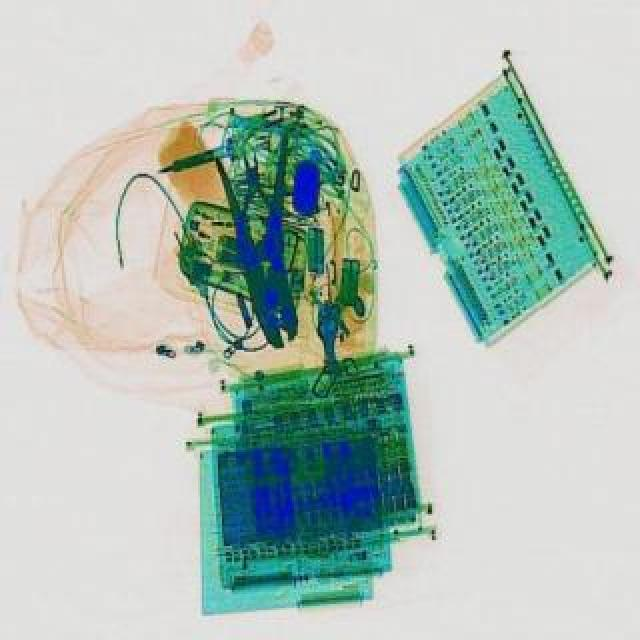wrench: (210, 138, 326, 358), (224, 152, 284, 254)
